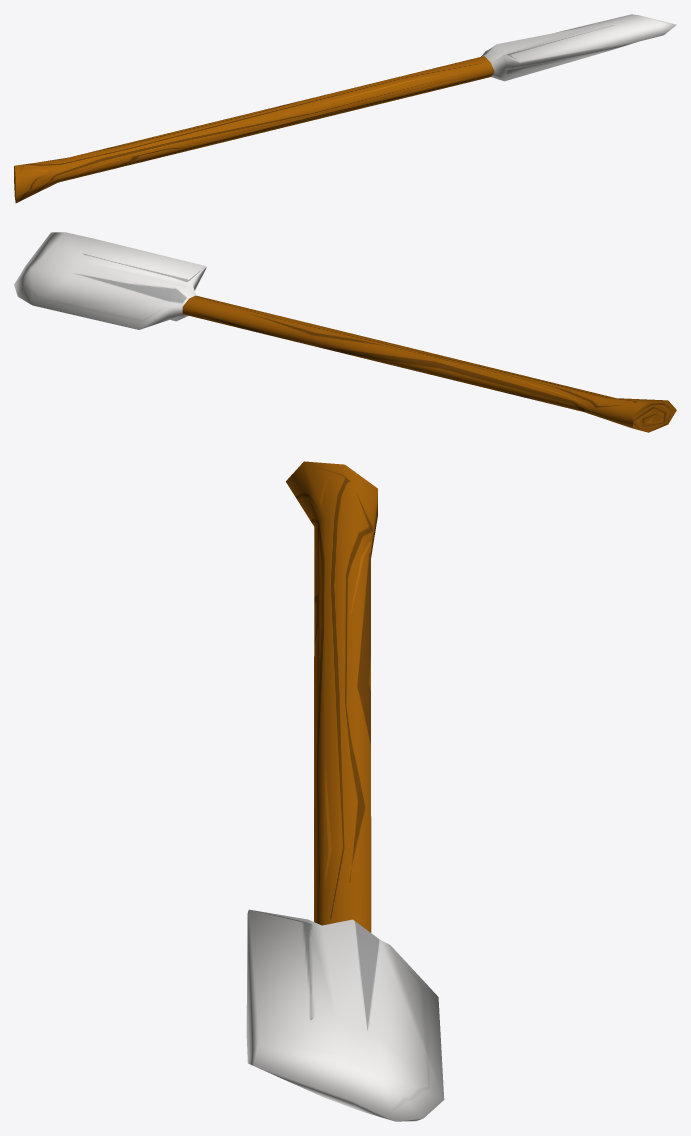
File: wand.FBX
3 renders of one model, top to bottom at view 1: azimuth 30°, elevation 25°; view 2: azimuth 150°, elevation 25°; view 3: azimuth 270°, elevation 25°, orthographic. The views are drawn at different scales.
Visible parts, largest first — view 1: Cylinder001; view 2: Cylinder001; view 3: Cylinder001.
Part boxes in pixels (x1,y1,x2,y2): Cylinder001: (14, 14, 676, 203); Cylinder001: (14, 232, 676, 432); Cylinder001: (246, 461, 444, 1121).
Size of the model in its own units: 21.21 by 1.25 by 2.85.
1 material, 1 textured.
